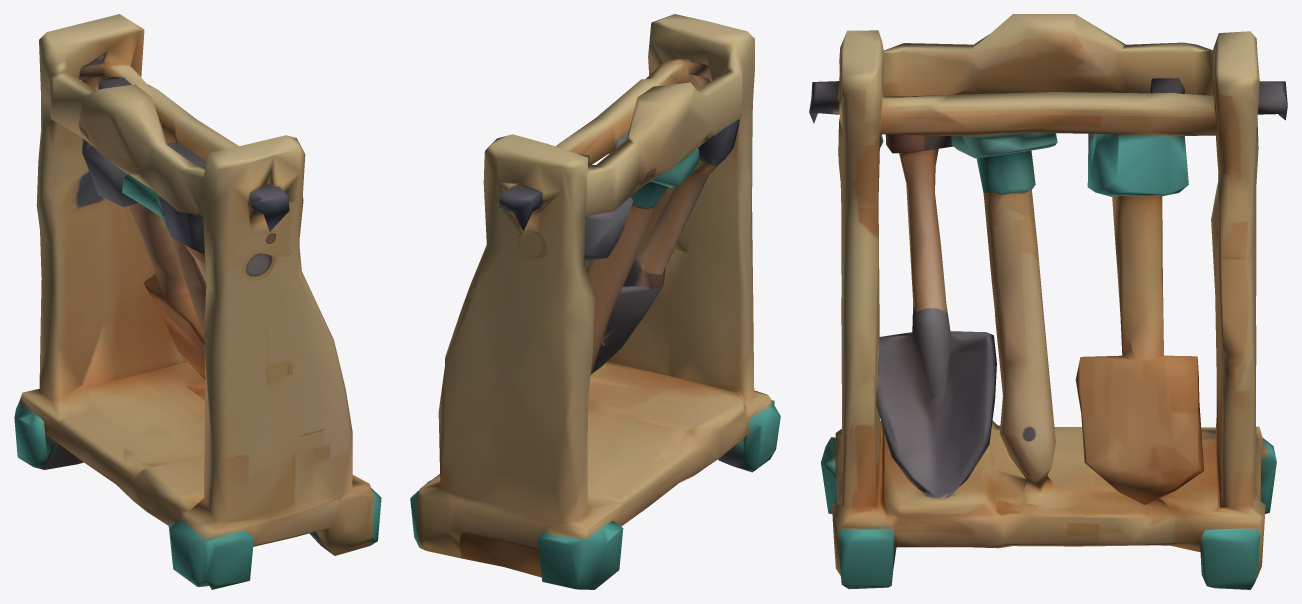
The picture shows the model from 3 angles, left to right: view 1: azimuth 30°, elevation 25°; view 2: azimuth 150°, elevation 25°; view 3: azimuth 270°, elevation 25°; orthographic projection. The views are drawn at different scales.
Visible parts, largest first — view 1: tripo_node_ca5630b9-1a36-478c-a972-564f47dd29c7; view 2: tripo_node_ca5630b9-1a36-478c-a972-564f47dd29c7; view 3: tripo_node_ca5630b9-1a36-478c-a972-564f47dd29c7.
Boxes of the visible parts, <box> form: tripo_node_ca5630b9-1a36-478c-a972-564f47dd29c7: <box>14,14,381,589</box>; tripo_node_ca5630b9-1a36-478c-a972-564f47dd29c7: <box>410,14,780,589</box>; tripo_node_ca5630b9-1a36-478c-a972-564f47dd29c7: <box>809,14,1287,589</box>.
Size of the model in its own units: 0.4745 by 1 by 0.8916.
1 material, 1 textured.
